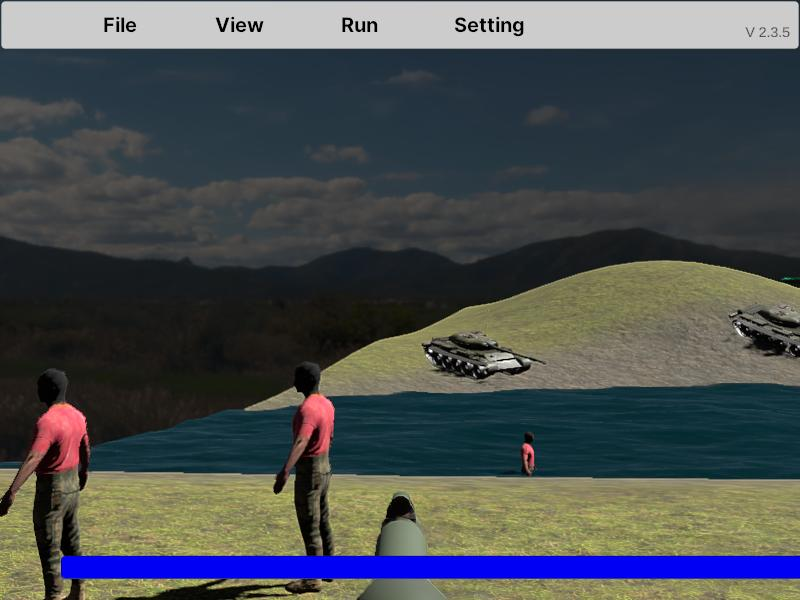Human: (1, 364, 90, 600), (274, 359, 335, 591), (521, 431, 536, 501)
Tank: (422, 330, 546, 380), (729, 304, 800, 360)
